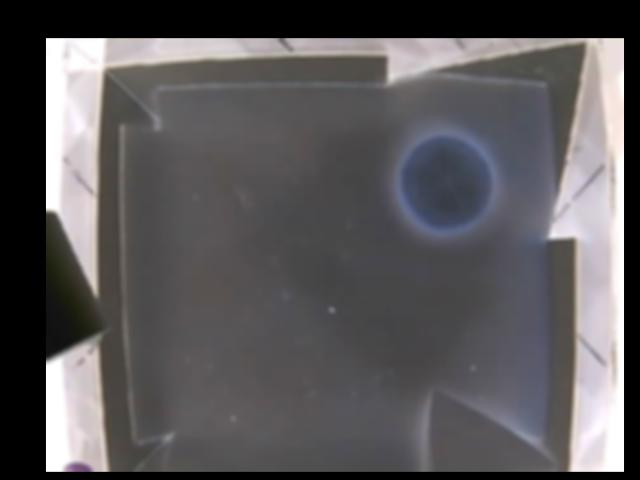China: (424, 387, 562, 471)
Mooli: (397, 132, 497, 234)
